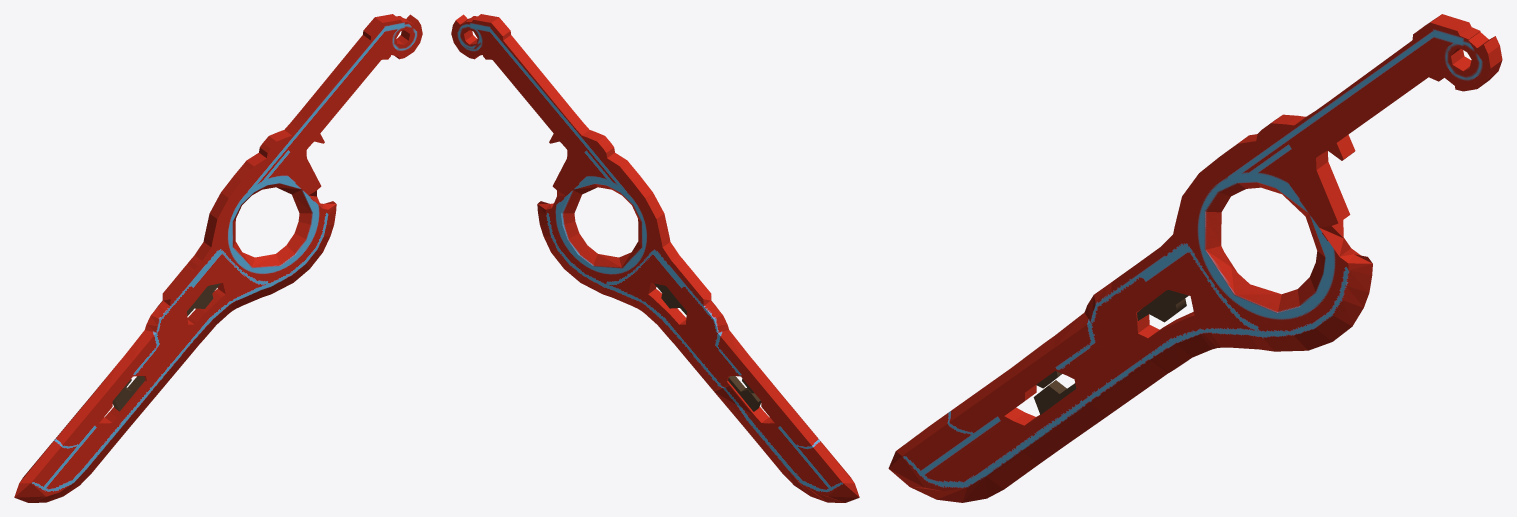
File: monado.fbx
The picture shows the model from 3 angles, left to right: view 1: azimuth 30°, elevation 25°; view 2: azimuth 150°, elevation 25°; view 3: azimuth 330°, elevation 25°; orthographic projection. The views are drawn at different scales.
Visible parts, largest first — view 1: pPlane1; view 2: pPlane1, pCube1; view 3: pPlane1, pCube3, pCube1.
Boxes of the visible parts, x1,y1,x2,y2 form: pPlane1: [14, 14, 422, 502]; pPlane1: [451, 14, 859, 502]; pCube1: [728, 376, 761, 411]; pPlane1: [888, 14, 1502, 502]; pCube3: [1137, 290, 1188, 322]; pCube1: [1033, 380, 1076, 414].
Bounding box in the file's own units: 135 × 128 × 4.54.
